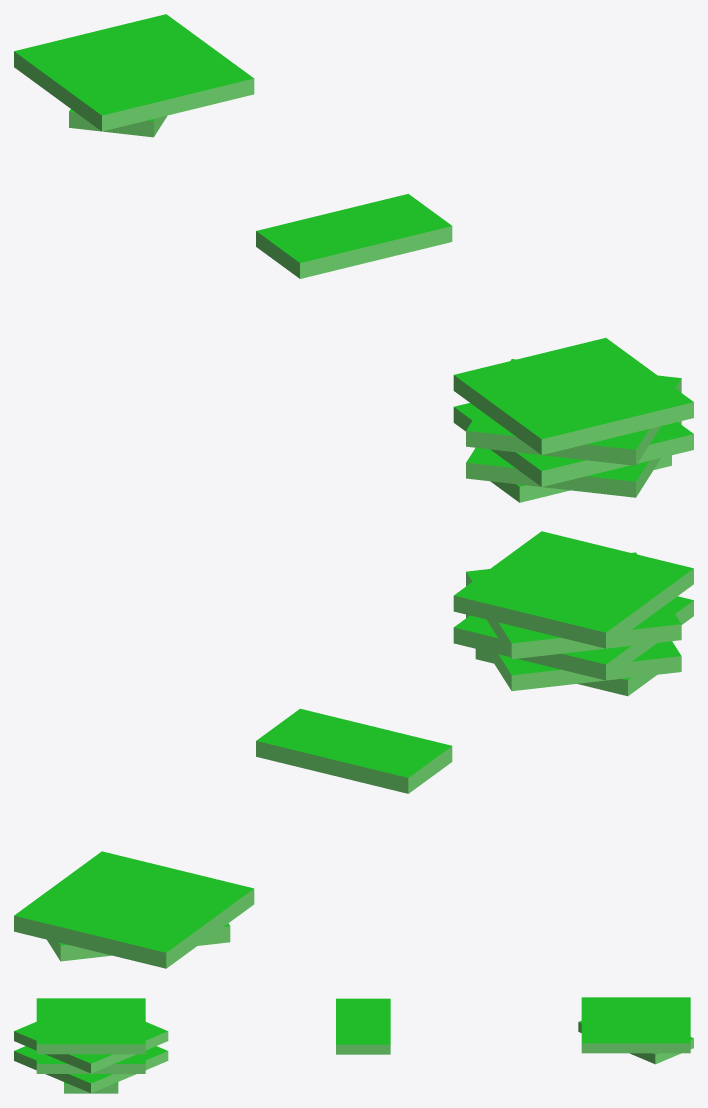
File: Reward.fbx
The picture shows the model from 3 angles, top to bottom: view 1: azimuth 30°, elevation 25°; view 2: azimuth 150°, elevation 25°; view 3: azimuth 270°, elevation 25°; orthographic projection. The views are drawn at different scales.
Visible parts, largest first — view 1: Cube, Cube.003, Cube.001; view 2: Cube, Cube.003, Cube.001; view 3: Cube, Cube.003, Cube.001.
Boxes of the visible parts, x1,y1,x2,y2 form: Cube: [453, 338, 693, 502]; Cube.003: [14, 14, 254, 137]; Cube.001: [256, 194, 452, 278]; Cube: [453, 531, 693, 696]; Cube.003: [14, 851, 254, 968]; Cube.001: [256, 708, 452, 793]; Cube: [14, 998, 168, 1093]; Cube.003: [578, 997, 693, 1064]; Cube.001: [336, 998, 390, 1054].
Bounding box in the file's own units: 283 × 102 × 1247.
